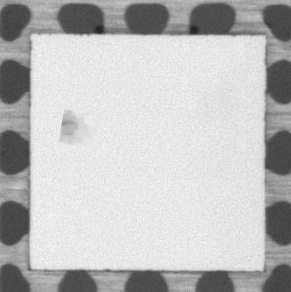DIE_INK: (57, 107, 77, 148)
